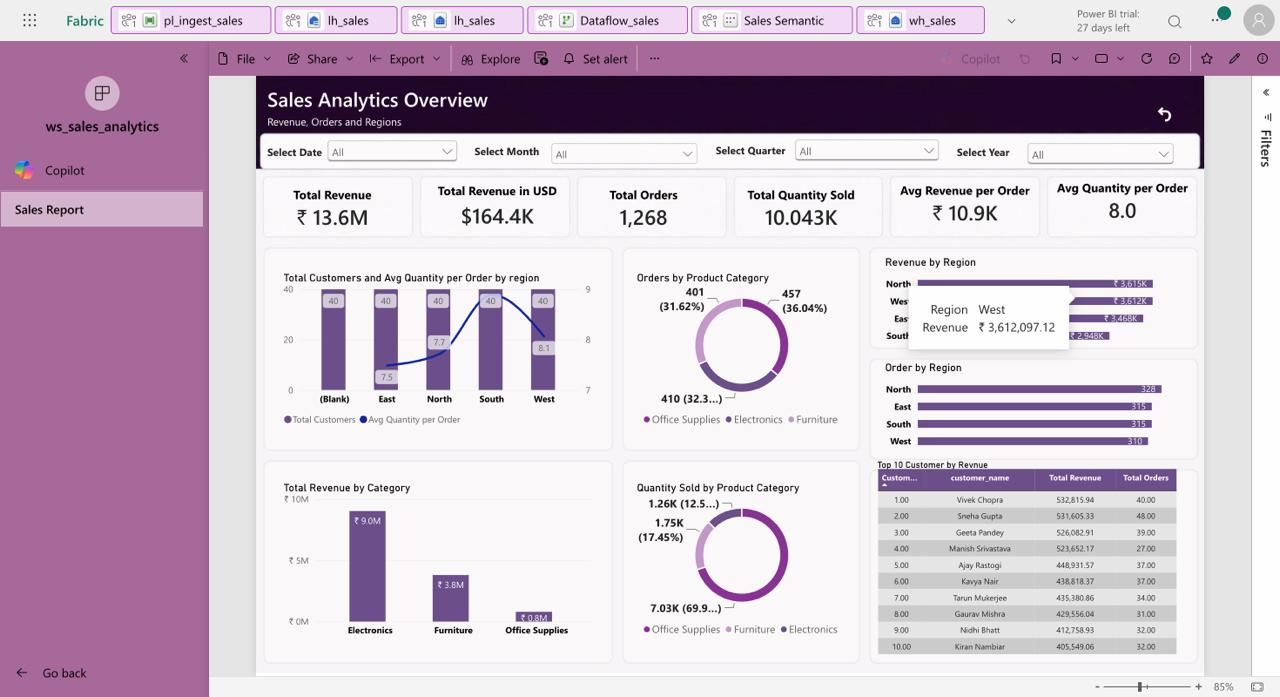

The page's visual inventory and layout, read from the dashboard file:
{"tool":"powerbi","page":{"name":"Page 1","canvas":[1280,810],"ordinal":0},"visuals":[{"type":"textbox","box":[14.8,13.3,365.1,50.3],"z":0},{"type":"textbox","box":[620.8,90.2,102,28.1],"z":0,"group":"g2"},{"type":"textbox","box":[295.6,91.6,99,23.6],"z":0,"group":"g3"},{"type":"textbox","box":[14.8,93.1,88.7,22.2],"z":0,"group":"g4"},{"type":"textbox","box":[946,93.1,90.2,19.2],"z":5,"group":"g1"},{"type":"slicer","fields":{"Values":["dim_date.year"]},"box":[1036.2,85.7,206.9,35.5],"z":10,"group":"g1"},{"type":"textbox","box":[14.8,51.7,365.1,23.6],"z":1000},{"type":"slicer","fields":{"Values":["dim_date.quarter"]},"box":[722.8,81.3,204,37],"z":1000,"group":"g2"},{"type":"slicer","fields":{"Values":["dim_date.order_date_key"]},"box":[91.7,82.8,184.8,34],"z":1000,"group":"g4"},{"type":"slicer","fields":{"Values":["dim_date.month_name"]},"box":[394.6,85.7,206.9,38.4],"z":1000,"group":"g3"},{"type":"group","id":"g1","title":"Group 1","box":[946,85.7,297.1,35.5],"z":2000},{"type":"group","id":"g2","title":"Group 2","box":[620.8,81.3,306,37],"z":3000},{"type":"group","id":"g3","title":"Group 3","box":[295.6,85.7,306,38.4],"z":4000},{"type":"group","id":"g4","title":"Group 4","box":[14.8,82.8,261.6,34],"z":5000},{"type":"cardVisual","fields":{"Data":["fact_sales.Total Revenue"]},"box":[20.7,124.2,164.1,109.4],"z":6000},{"type":"cardVisual","fields":{"Data":["fact_sales.Total Revenue in USD"]},"box":[229.1,121.2,193.6,109.4],"z":7000},{"type":"cardVisual","fields":{"Data":["fact_sales.Total Orders"]},"box":[427.2,124.2,193.6,109.4],"z":8000},{"type":"cardVisual","fields":{"Data":["fact_sales.Total Quantity Sold"]},"box":[640.6,123.7,193.6,109.4],"z":9000},{"type":"cardVisual","fields":{"Data":["dim_customer.Avg Revenue per Order"]},"box":[851.4,118.2,212.8,109.4],"z":10000},{"type":"cardVisual","fields":{"Data":["fact_sales.Avg Quantity per Order"]},"box":[1064.2,115.3,212.8,109.4],"z":11000},{"type":"clusteredBarChart","title":"Revenue by Region","fields":{"Category":["dim_region.region"],"Y":["Sum(fact_sales.revenue)"]},"box":[833.6,230.6,427.2,152.2],"z":12000},{"type":"clusteredBarChart","title":"Order by Region","fields":{"Category":["dim_region.region"],"Y":["fact_sales.Total Orders"]},"box":[833.1,372.6,427.1,152.3],"z":13000},{"type":"donutChart","title":" Orders by Product Category","fields":{"Category":["dim_product.product_category"],"Y":["fact_sales.Total Orders"]},"box":[498.1,251.3,314.8,242.4],"z":14000},{"type":"donutChart","title":"Quantity Sold  by Product Category","fields":{"Category":["dim_product.product_category"],"Y":["fact_sales.Total Quantity Sold"]},"box":[498.9,534.8,314.8,242.4],"z":15000},{"type":"tableEx","title":"Top 10  Customer by Revnue ","fields":{"Values":["dim_customer.Customer Rank","dim_customer.customer_name","fact_sales.Total Revenue","fact_sales.Total Orders"]},"box":[823.2,505.1,448.1,304.5],"z":16000},{"type":"columnChart","title":"Total Revenue by Category","fields":{"Category":["dim_product.product_category"],"Y":["fact_sales.Total Revenue"]},"box":[21,534.8,446.9,242.6],"z":17000},{"type":"lineClusteredColumnComboChart","fields":{"Category":["dim_region.region"],"Y":["fact_sales.Total Customers"],"Y2":["fact_sales.Avg Quantity per Order"]},"box":[21,251.3,446.9,241.4],"z":17001},{"type":"actionButton","box":[1177.3,32.2,100,40],"z":17003}]}

Visuals, with their boxes on the page's 1280x810 design canvas (x1, y1, x2, y2). These are canvas units, not pixel positions in the 1280x697 screenshot, which may show the page scaled, cropped or inside an application window:
textbox: left=15, top=13, right=380, bottom=64
textbox: left=621, top=90, right=723, bottom=118
textbox: left=296, top=92, right=395, bottom=115
textbox: left=15, top=93, right=104, bottom=115
textbox: left=946, top=93, right=1036, bottom=112
slicer - dim_date.year: left=1036, top=86, right=1243, bottom=121
textbox: left=15, top=52, right=380, bottom=75
slicer - dim_date.quarter: left=723, top=81, right=927, bottom=118
slicer - dim_date.order_date_key: left=92, top=83, right=276, bottom=117
slicer - dim_date.month_name: left=395, top=86, right=602, bottom=124
"Group 1" group: left=946, top=86, right=1243, bottom=121
"Group 2" group: left=621, top=81, right=927, bottom=118
"Group 3" group: left=296, top=86, right=602, bottom=124
"Group 4" group: left=15, top=83, right=276, bottom=117
cardVisual - fact_sales.Total Revenue: left=21, top=124, right=185, bottom=234
cardVisual - fact_sales.Total Revenue in USD: left=229, top=121, right=423, bottom=231
cardVisual - fact_sales.Total Orders: left=427, top=124, right=621, bottom=234
cardVisual - fact_sales.Total Quantity Sold: left=641, top=124, right=834, bottom=233
cardVisual - dim_customer.Avg Revenue per Order: left=851, top=118, right=1064, bottom=228
cardVisual - fact_sales.Avg Quantity per Order: left=1064, top=115, right=1277, bottom=225
"Revenue by Region" clusteredBarChart: left=834, top=231, right=1261, bottom=383
"Order by Region" clusteredBarChart: left=833, top=373, right=1260, bottom=525
" Orders by Product Category" donutChart: left=498, top=251, right=813, bottom=494
"Quantity Sold  by Product Category" donutChart: left=499, top=535, right=814, bottom=777
"Top 10  Customer by Revnue " tableEx: left=823, top=505, right=1271, bottom=810
"Total Revenue by Category" columnChart: left=21, top=535, right=468, bottom=777
lineClusteredColumnComboChart - dim_region.region x fact_sales.Total Customers: left=21, top=251, right=468, bottom=493
actionButton: left=1177, top=32, right=1277, bottom=72
